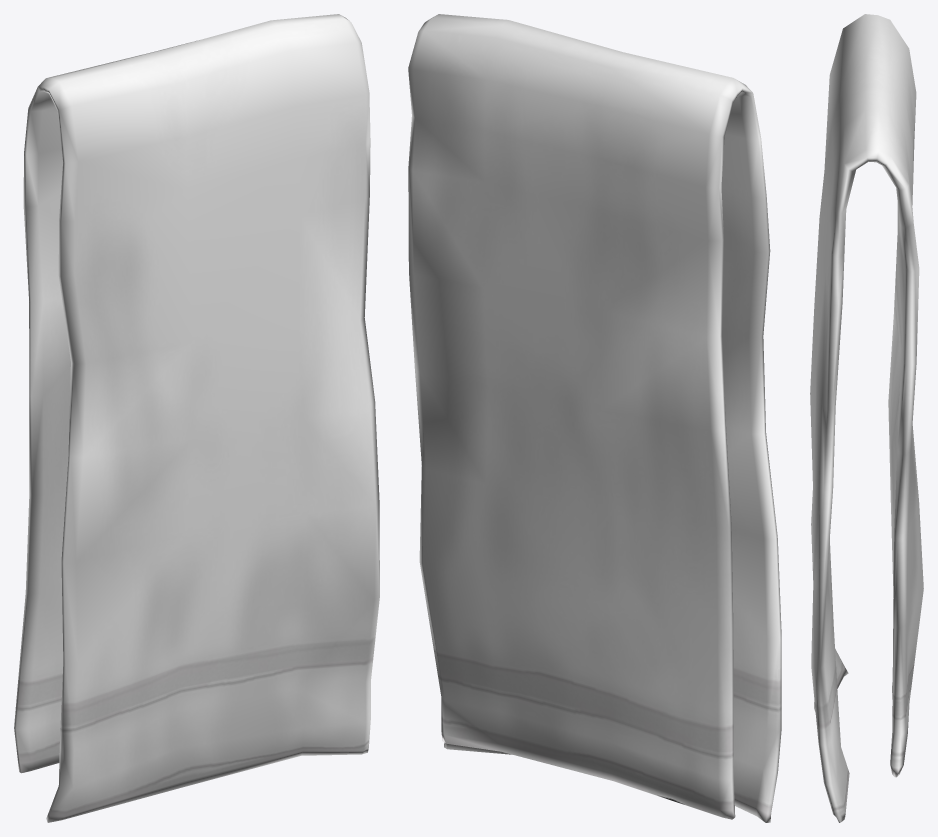
Rendered from Btr_Towel.fbx.
3 renders of one model, left to right at view 1: azimuth 30°, elevation 25°; view 2: azimuth 150°, elevation 25°; view 3: azimuth 270°, elevation 25°, orthographic. The views are drawn at different scales.
Parts seen in each view (by area): view 1: prop_Btr_Towel_Lp; view 2: prop_Btr_Towel_Lp; view 3: prop_Btr_Towel_Lp.
Part boxes in pixels (left/top/right/bottom): prop_Btr_Towel_Lp: left=14, top=14, right=379, bottom=822; prop_Btr_Towel_Lp: left=408, top=14, right=781, bottom=822; prop_Btr_Towel_Lp: left=810, top=14, right=923, bottom=822.
Size of the model in its own units: 0.2494 by 0.5505 by 0.0835.
